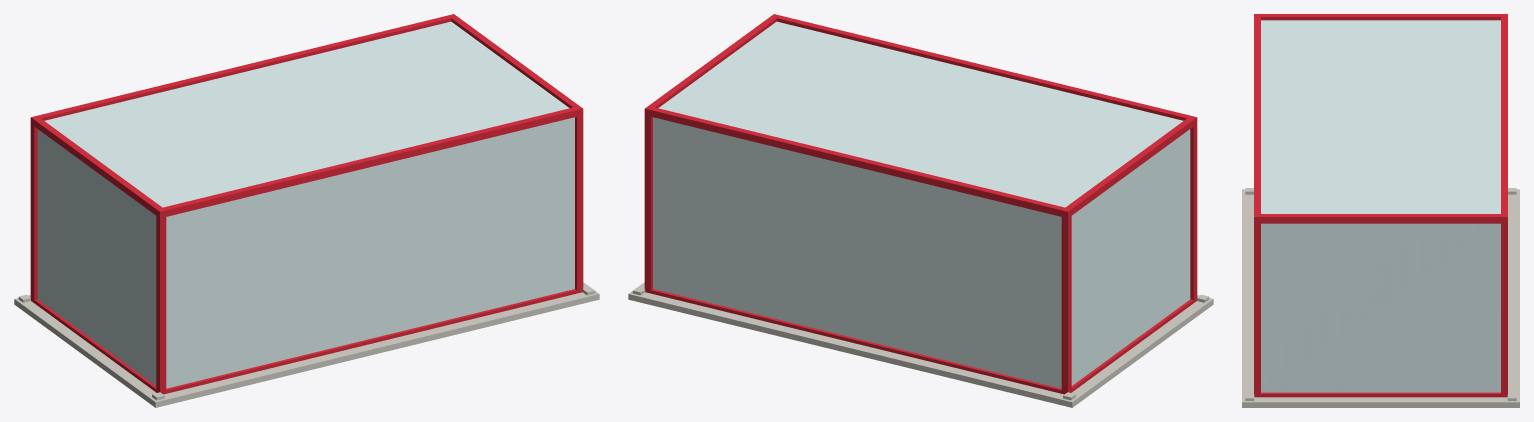
Rendered from mercedes-benz-g500.glb.
3 views of the same model, side by side, from view 1: azimuth 30°, elevation 25°; view 2: azimuth 150°, elevation 25°; view 3: azimuth 270°, elevation 25° (orthographic).
Bounding box in the file's own units: 0.49 × 0.1995 × 0.27.
